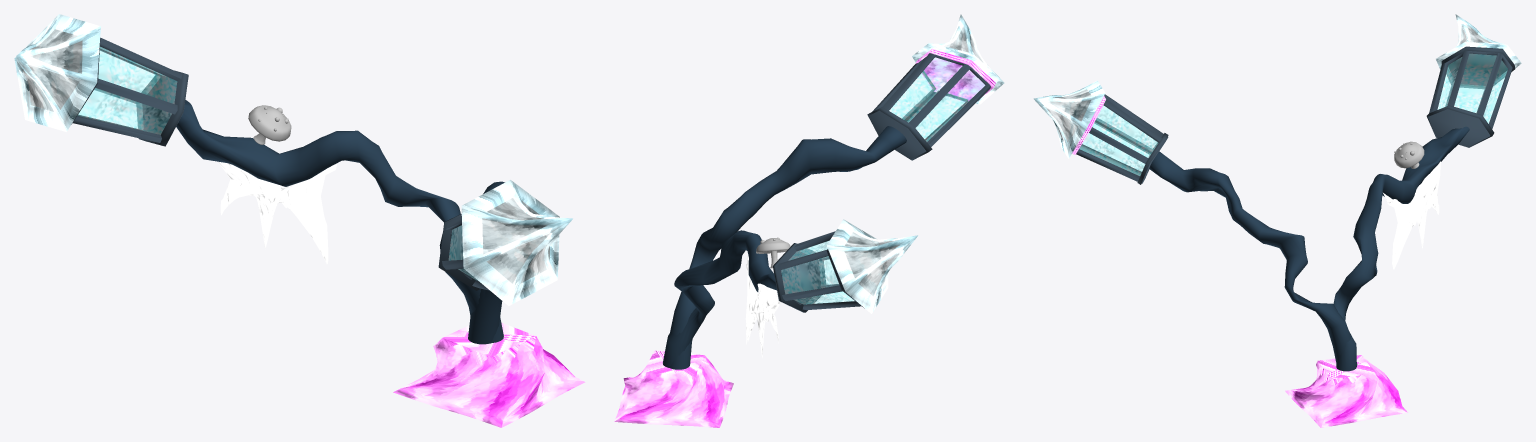
File: DoubleLamp.fbx
3 views of the same model, side by side, from view 1: azimuth 30°, elevation 25°; view 2: azimuth 150°, elevation 25°; view 3: azimuth 270°, elevation 25° (orthographic). The views are drawn at different scales.
Visible parts, largest first — view 1: Lamp2; view 2: Lamp2; view 3: Lamp2.
Boxes of the visible parts, x1,y1,x2,y2 form: Lamp2: (14,14,585,427); Lamp2: (614,14,1004,427); Lamp2: (1033,14,1521,427).
Bounding box in the file's own units: 451 × 341 × 586.
